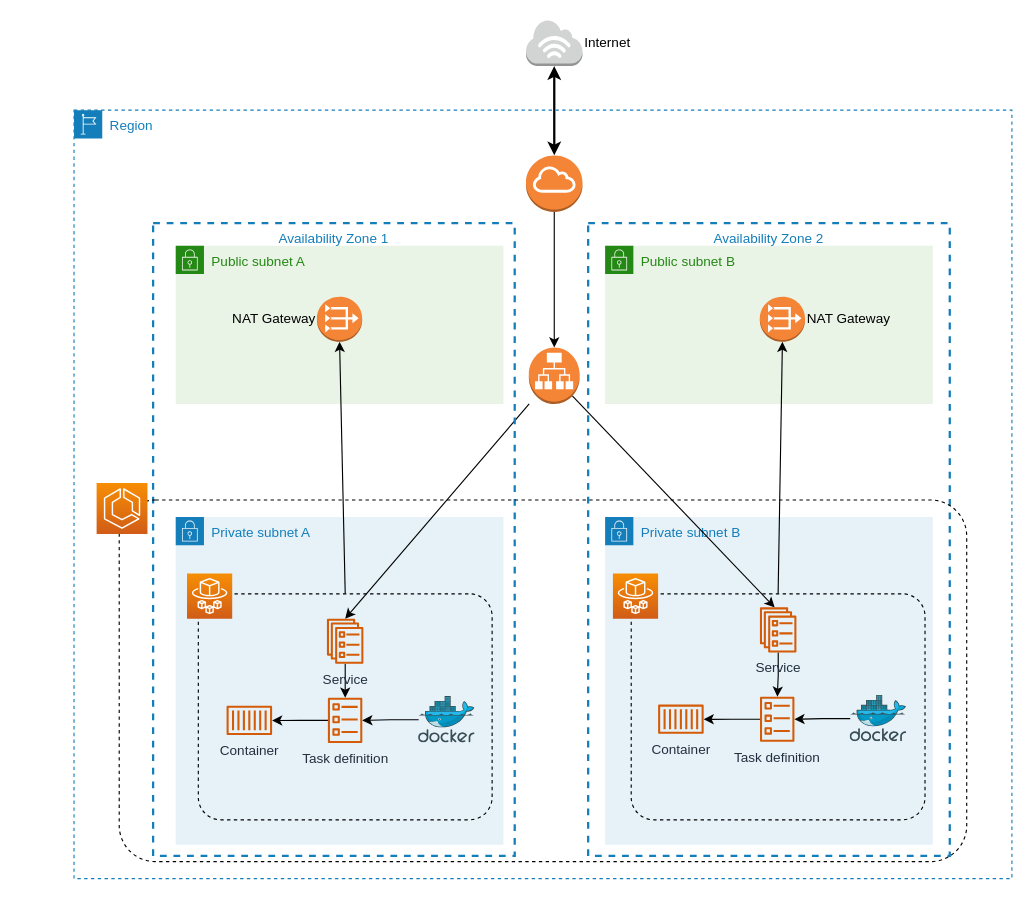
Some shapes in this 1032 by 898 pixel diagram are drawn without their labels. Each missing label, with the centre of its shape:
ALB: the point at 554,375
ECS Cluster: the point at 121,508
Internet Gateway: the point at 554,183
